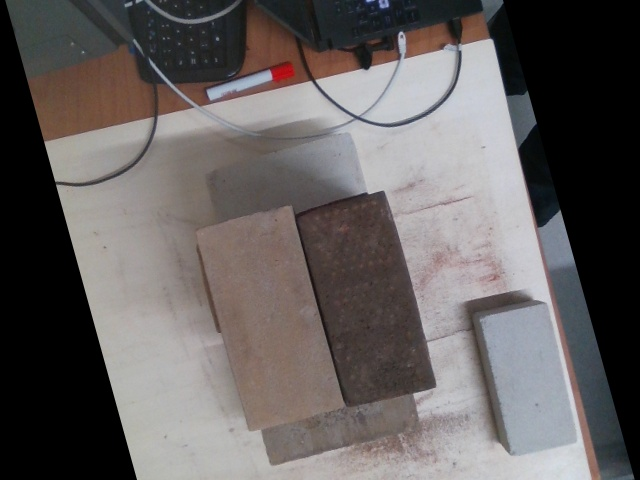brick: (194, 207, 343, 434), (294, 192, 435, 410), (481, 303, 577, 456)
